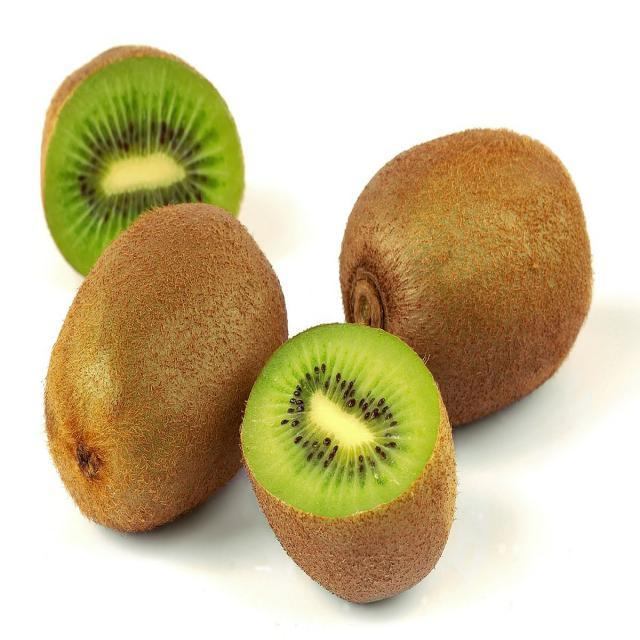kiwi: (43, 203, 288, 538), (341, 127, 594, 425)
